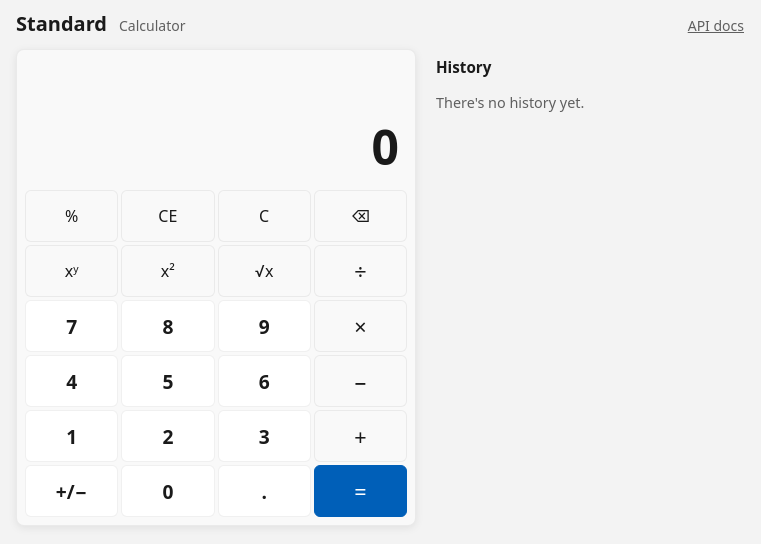
Test case: App › wires the calculator to the injected API
The image size is (761, 544).
expect the heading "Calculator" is shown: met, box [119,16,186,35]
Click the button "3" at (264, 436), box [218,410,311,462]
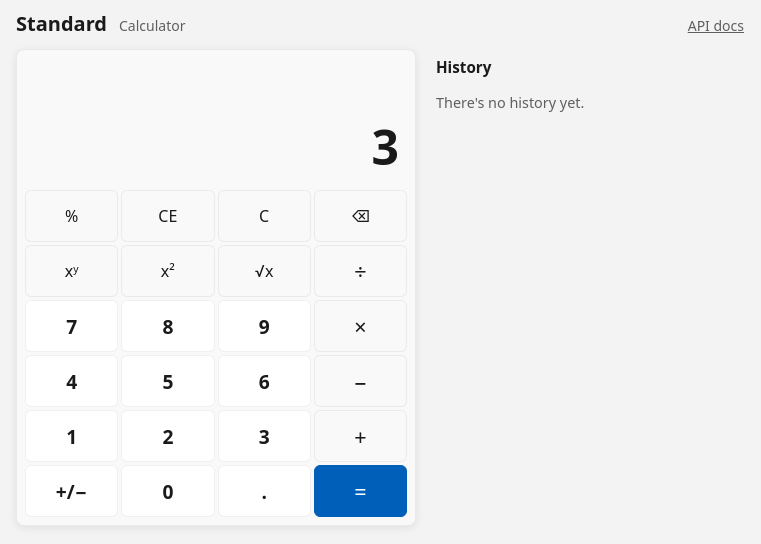
Click the button named "Add" at (360, 436), box [314,410,407,462]
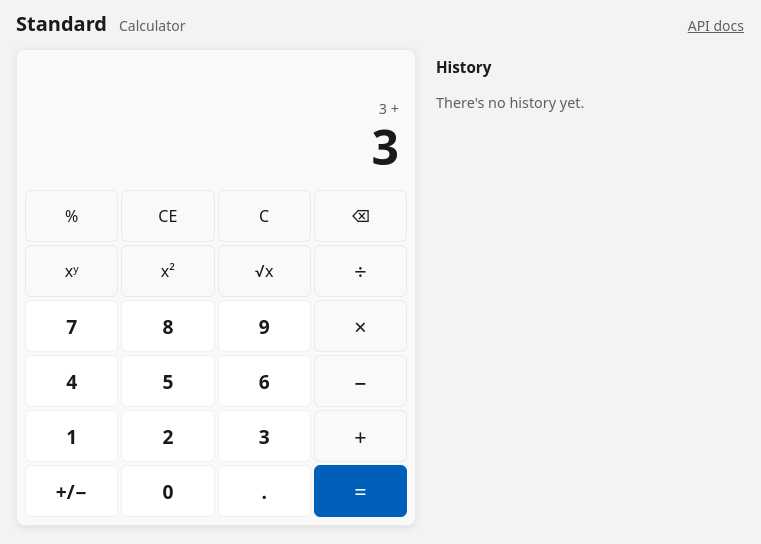
Click the button "4" at (72, 381), box [25,355,118,407]
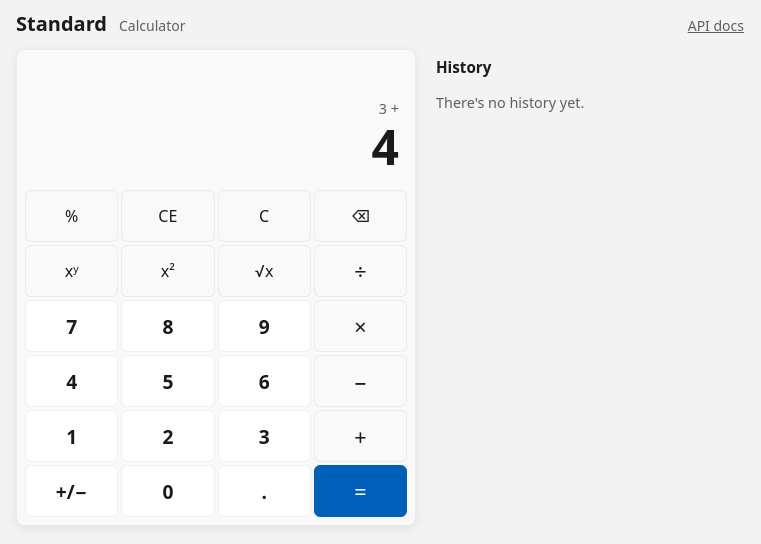
Click the button named "Equals" at (360, 491), box [314,465,407,517]
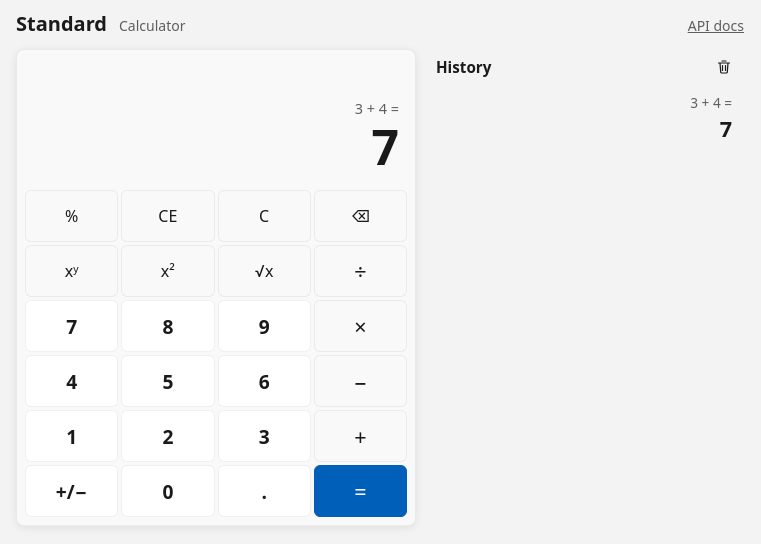
expect the text named "Display" reads "7": met, box [372,114,399,179]
